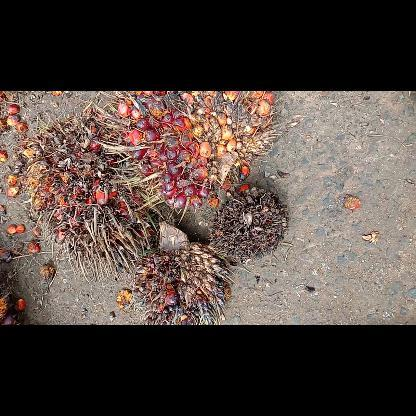TBS abnormal: (124, 216, 234, 324), (209, 182, 291, 262)
TBS masak: (92, 91, 284, 213)
Terlalu masak: (17, 110, 175, 280)
